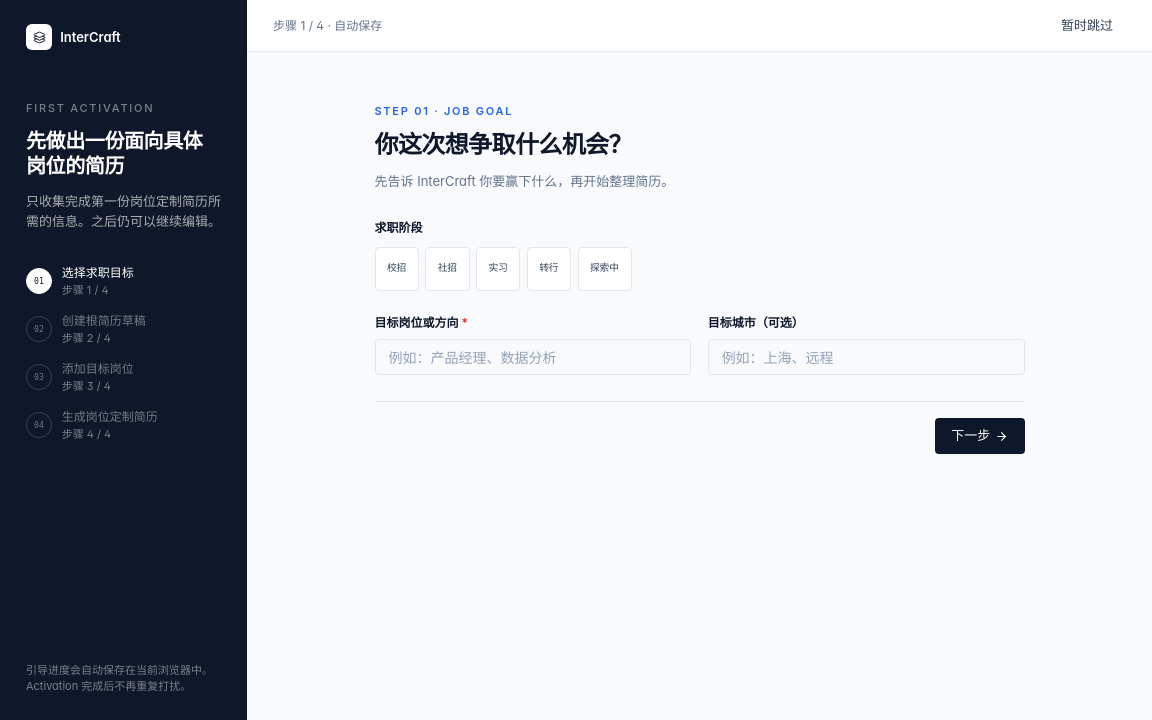
Scenario: Onboarding › awaits real createRootResume on Step 2 before advancing (blank mode)
Click the button "校招" at (397,269), box [374, 247, 419, 291]
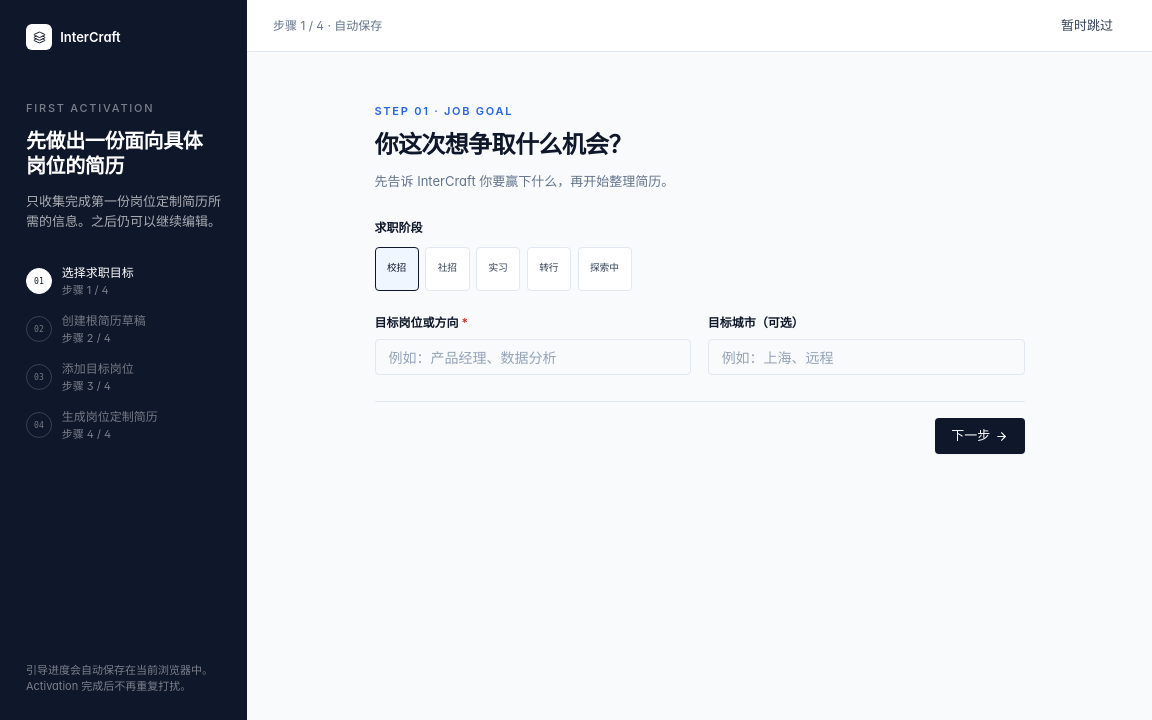
Type "产品经理" into the field labelled "目标岗位或方向 *" at (533,357), box [374, 339, 691, 375]
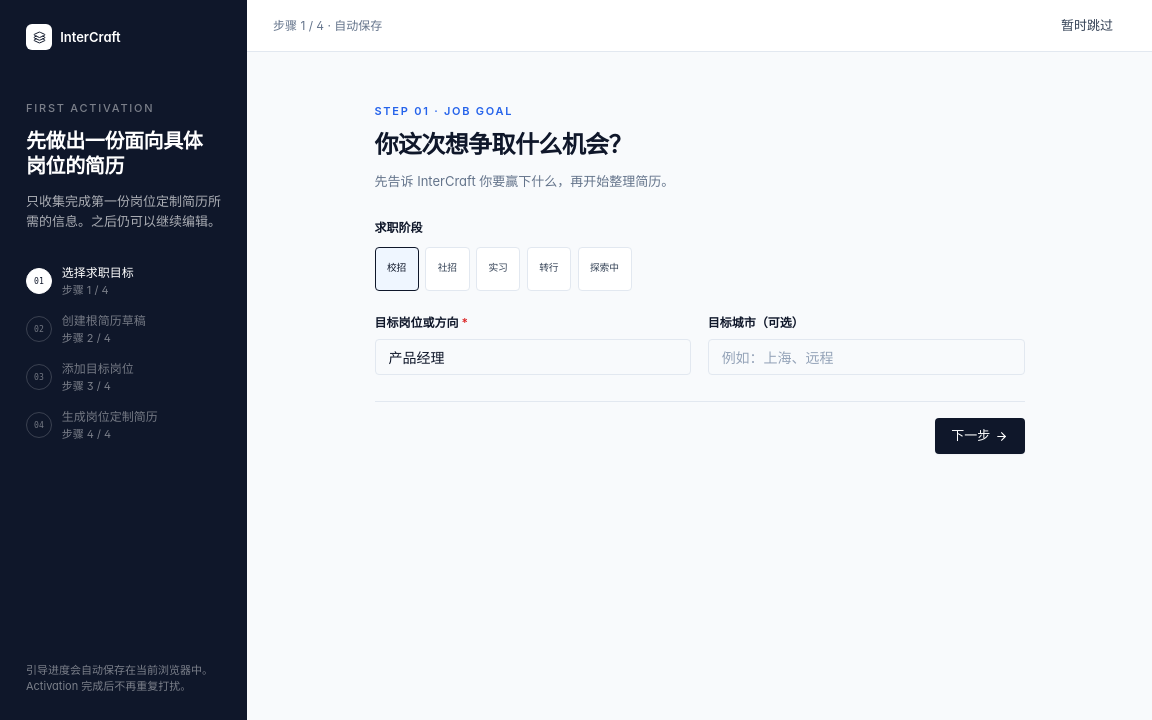
Click the button "下一步" at (980,436), box [935, 418, 1024, 454]
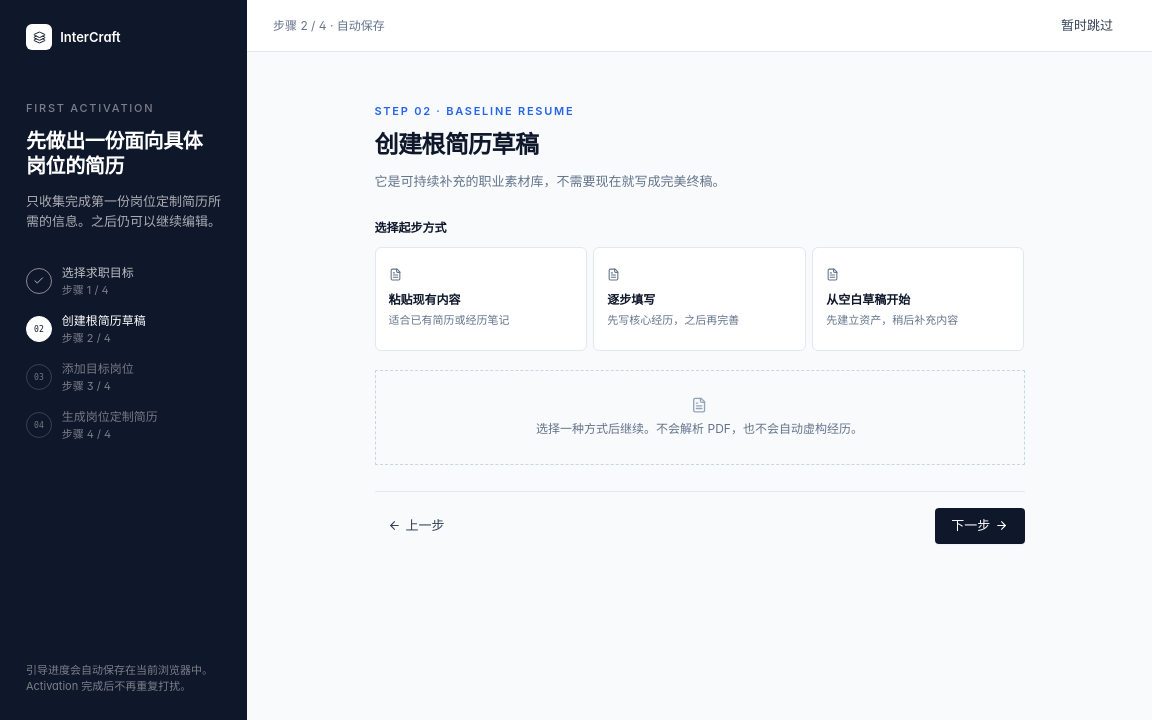
Click the button "从空白草稿开始 先建立资产，稍后补充内容" at (918,299), box [812, 247, 1024, 351]
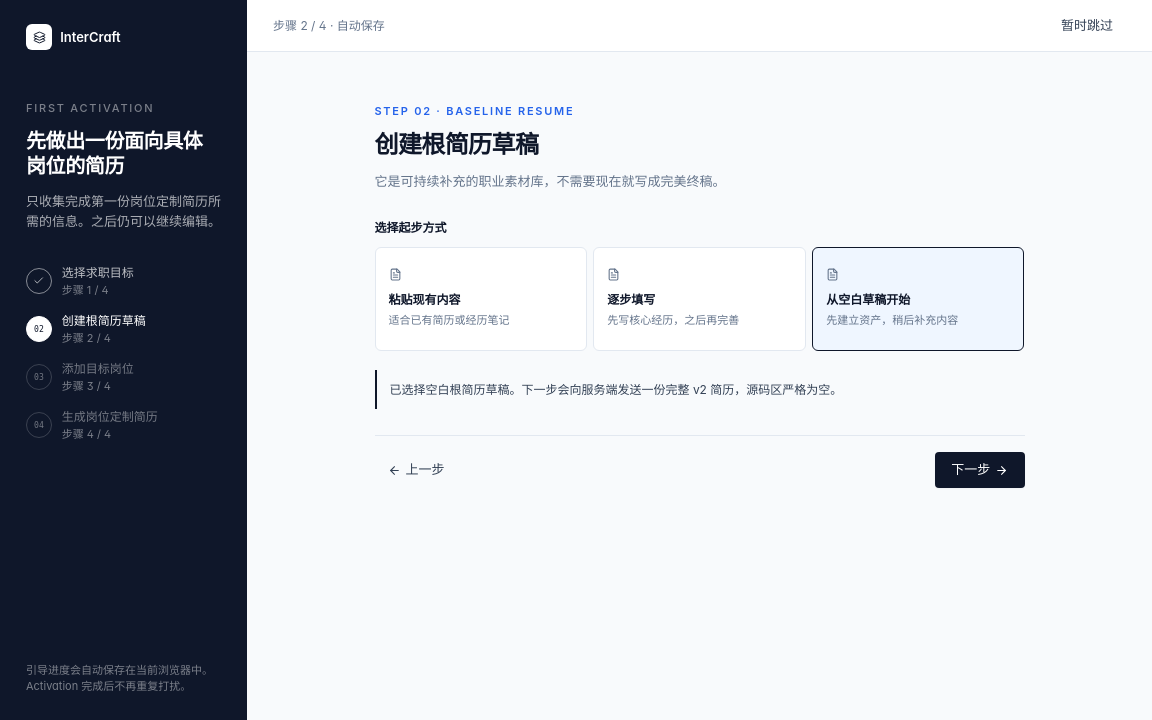
Click the button "下一步" at (980,470), box [935, 452, 1024, 488]
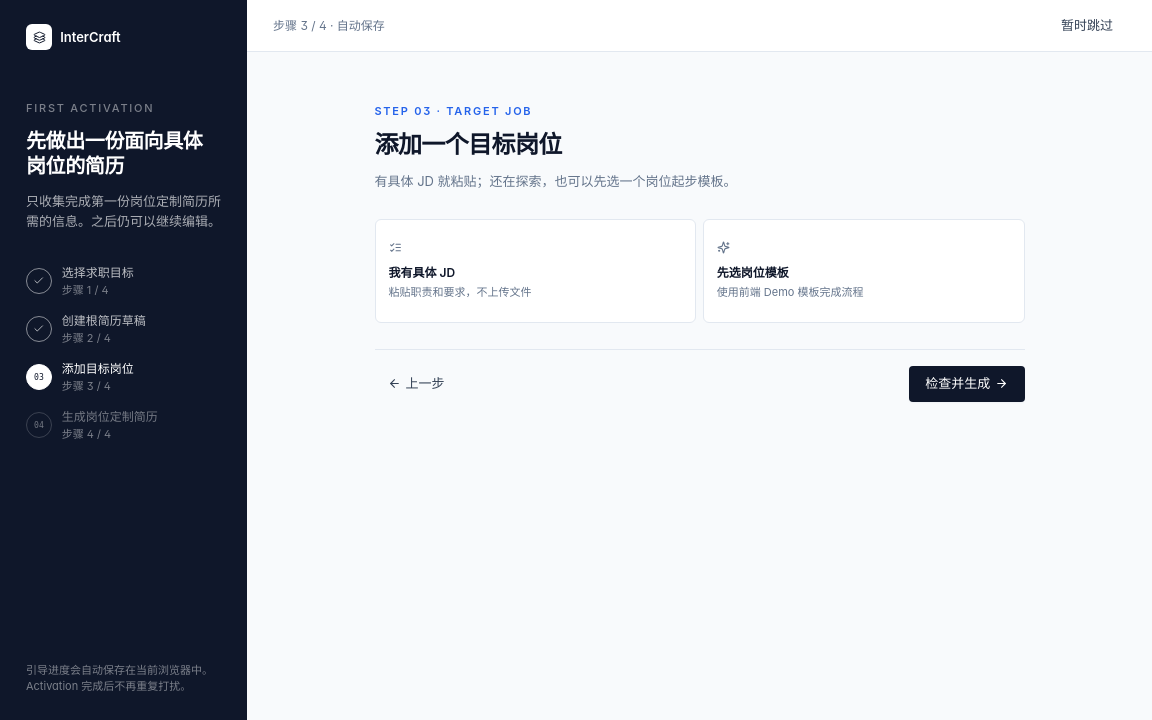
Expected: the heading "添加一个目标岗位" is shown, [374, 130, 562, 159]
